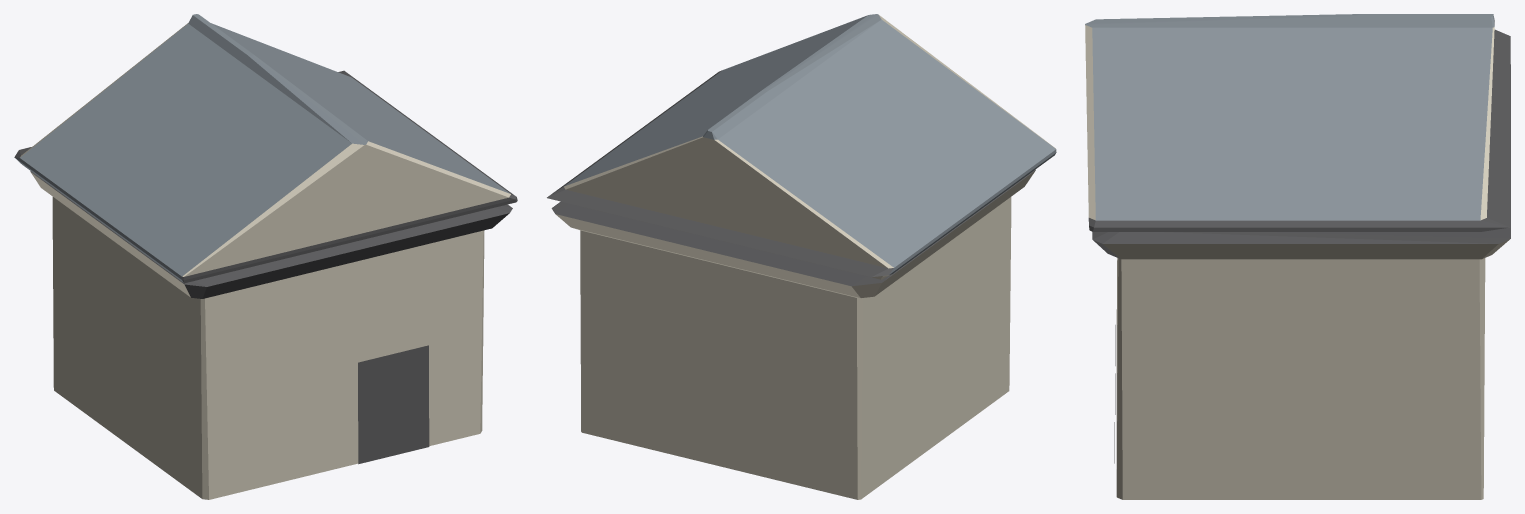
File: loin.glb
3 renders of one model, left to right at view 1: azimuth 30°, elevation 25°; view 2: azimuth 150°, elevation 25°; view 3: azimuth 270°, elevation 25°, orthographic. The views are drawn at different scales.
Parts seen in each view (by area): view 1: loin; view 2: loin; view 3: loin.
Boxes of the visible parts, x1,y1,x2,y2 form: loin: [14, 14, 517, 499]; loin: [547, 14, 1056, 499]; loin: [1085, 14, 1510, 499].
Bounding box in the file's own units: 0.9516 × 0.9093 × 0.8642.
